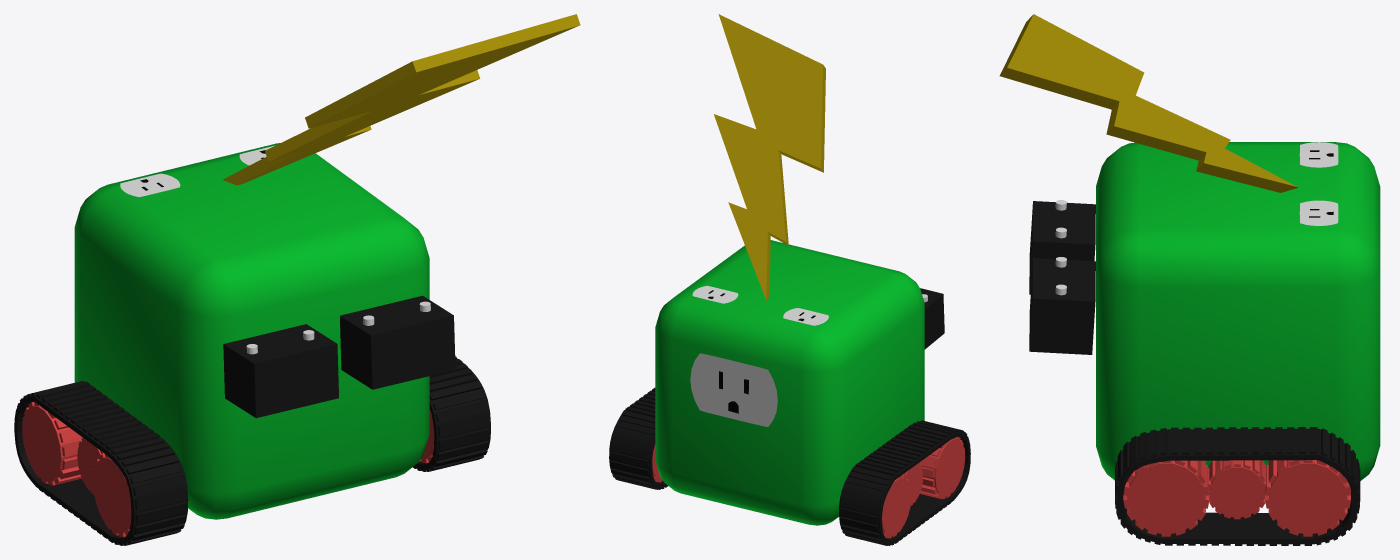
Rendered from BatteryBot.FBX.
3 renders of one model, left to right at view 1: azimuth 30°, elevation 25°; view 2: azimuth 150°, elevation 25°; view 3: azimuth 270°, elevation 25°, orthographic. The views are drawn at different scales.
Parts seen in each view (by area): view 1: Body, Track00, LightningBolt, Battery01, Battery00, Track01, Gear00, Gear01, FacePowerPlug001, Gear04; view 2: Body, LightningBolt, Track00, FacePowerPlug, Track01, Gear01, Gear00, Battery01, FacePowerPlug001, FacePowerPlug002, Gear04; view 3: Body, LightningBolt, Track01, Battery00, Gear02, Gear03, Battery01, Gear05, FacePowerPlug001, FacePowerPlug002.
Part boxes in pixels (box(x1,y1,x2,y2)): Body: box(74, 143, 429, 519); Track00: box(14, 380, 188, 545); LightningBolt: box(223, 14, 580, 185); Battery01: box(223, 324, 338, 418); Battery00: box(340, 295, 455, 389); Track01: box(413, 356, 490, 471); Gear00: box(22, 401, 82, 485); Gear01: box(92, 453, 131, 537); FacePowerPlug001: box(120, 173, 180, 197); Gear04: box(77, 438, 103, 494); Body: box(655, 240, 924, 525); LightningBolt: box(714, 14, 825, 300); Track00: box(839, 420, 970, 545); FacePowerPlug: box(690, 353, 777, 426); Track01: box(609, 387, 667, 489); Gear01: box(919, 436, 965, 499); Gear00: box(882, 475, 911, 538); Battery01: box(920, 288, 944, 349); FacePowerPlug001: box(783, 308, 828, 325); FacePowerPlug002: box(692, 285, 738, 303); Gear04: box(902, 463, 923, 505); Body: box(1096, 142, 1380, 480); LightningBolt: box(999, 14, 1297, 192); Track01: box(1115, 427, 1360, 545); Battery00: box(1029, 257, 1095, 354); Gear02: box(1265, 460, 1350, 536); Gear03: box(1123, 460, 1209, 536); Battery01: box(1029, 200, 1095, 294); Gear05: box(1208, 460, 1265, 519); FacePowerPlug001: box(1299, 142, 1338, 167); FacePowerPlug002: box(1299, 200, 1338, 225).
Bounding box in the file's own units: 31.57 × 38.36 × 27.17.
